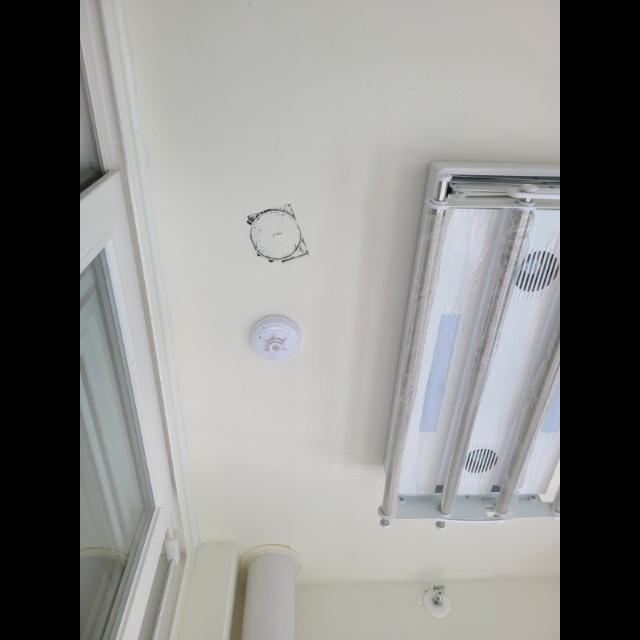Smoke-Detector: (252, 314, 302, 360)
